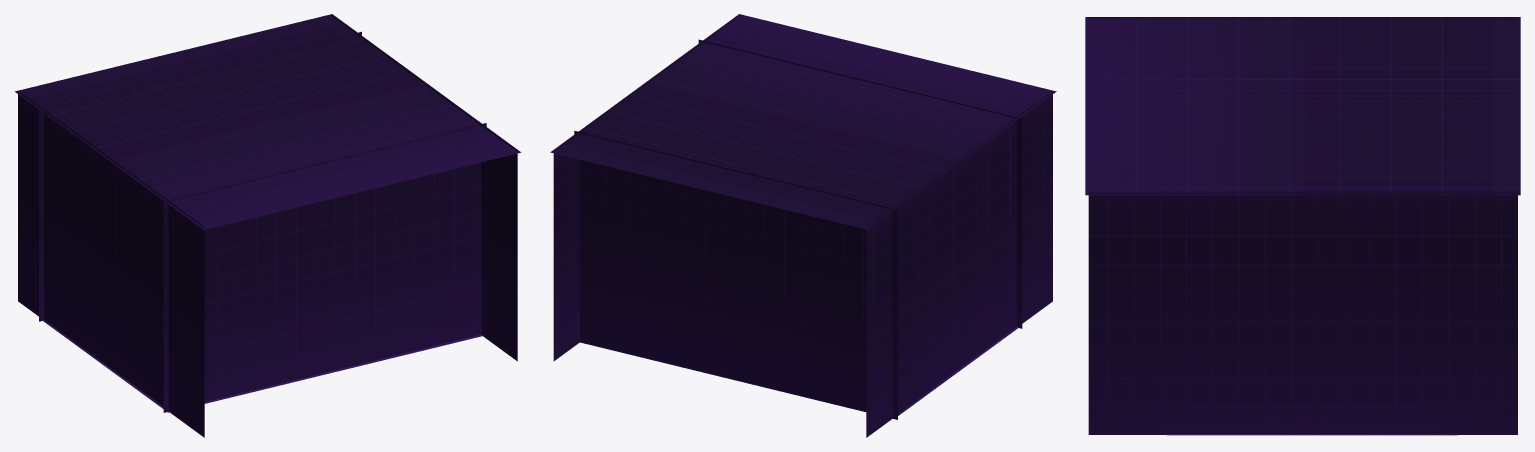
The model's file is Stage0_3D_PURPLE.glb.
3 renders of one model, left to right at view 1: azimuth 30°, elevation 25°; view 2: azimuth 150°, elevation 25°; view 3: azimuth 270°, elevation 25°, orthographic. The views are drawn at different scales.
Parts seen in each view (by area): view 1: Plane.001, Plane; view 2: Plane.001, Plane; view 3: Plane.001, Plane.
Boxes of the visible parts, box(x1,y1,x2,y2) form: Plane.001: box(15, 14, 521, 437); Plane: box(42, 319, 483, 412); Plane.001: box(550, 14, 1056, 437); Plane: box(582, 326, 1019, 418); Plane.001: box(1085, 17, 1520, 434); Plane: box(1166, 434, 1457, 435).
Bounding box in the file's own units: 39.08 × 24.36 × 39.61.
2 materials, 2 textured.
